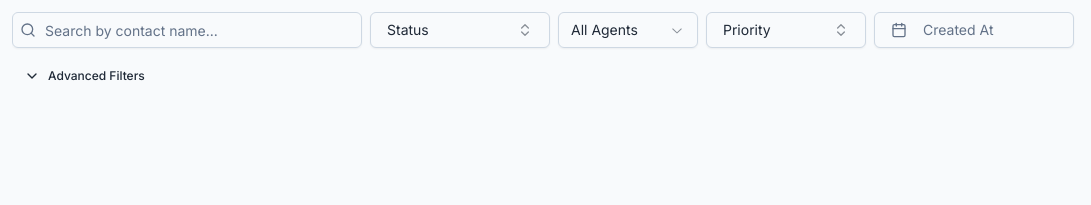
it: ChatViewFilters › Advanced Filters Collapsible (Feature 015: Chunk 1) › should expand advanced filters when toggle button is clicked
Click the button "Advanced Filters": (84, 76) x1=12 y1=60 x2=157 y2=92
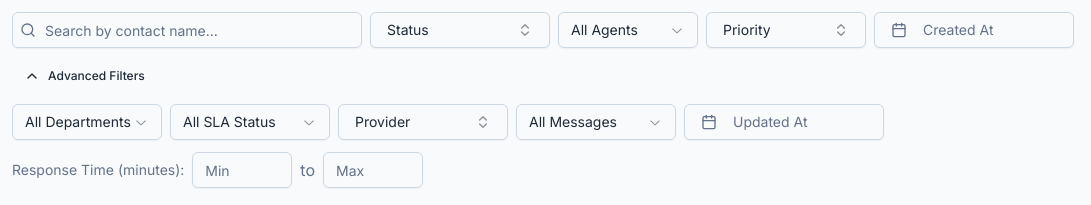
Check: the text "Response Time (minutes):" is shown, box x1=12 y1=160 x2=184 y2=180
